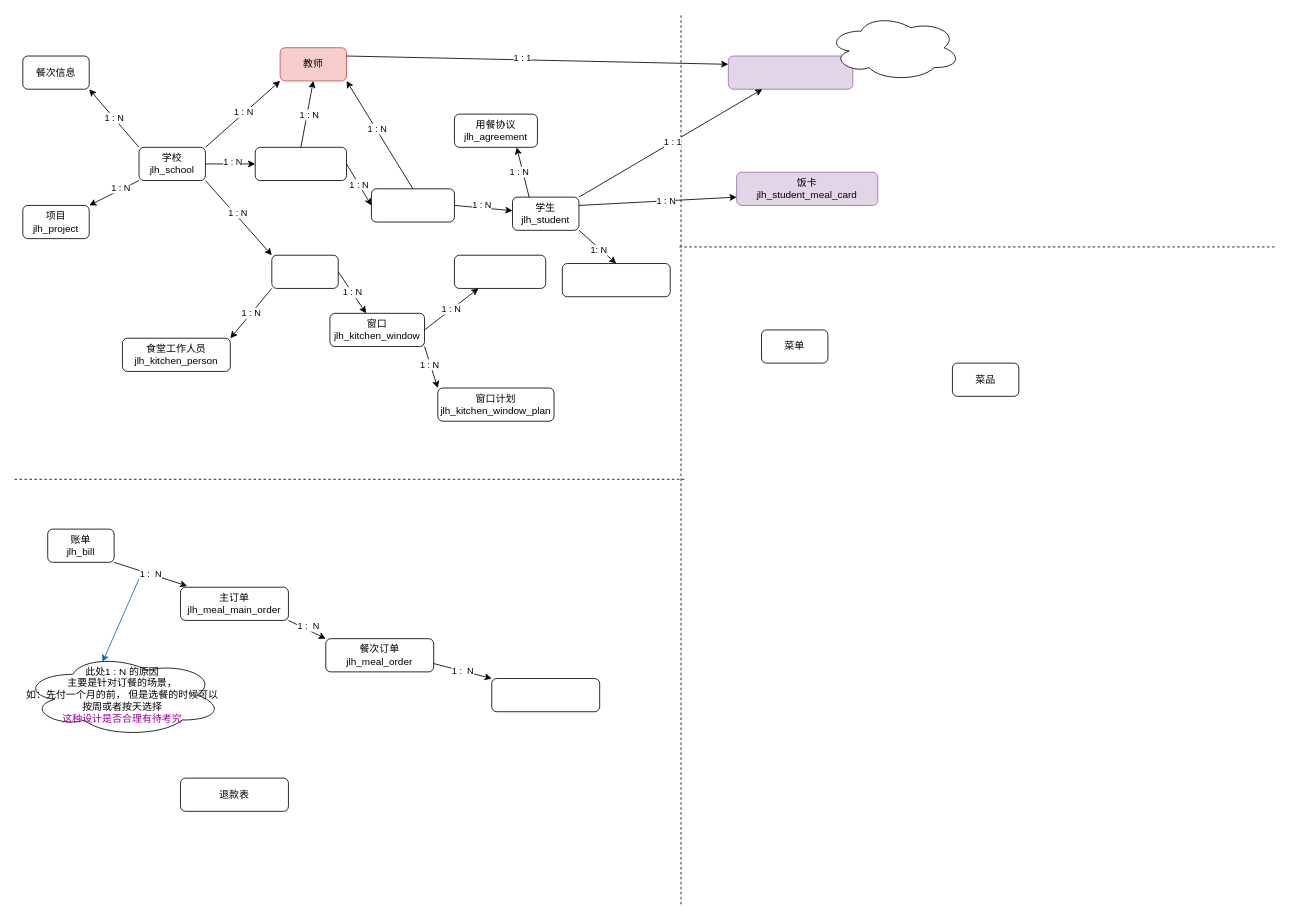
Some shapes in this 1292 by 920 pixel diagram are drawn without their labels. The shapes that lost their labels are listed below. From the top down, each one's centre as x and y in pixels, then its label:
(894,47): jlh_wallet 有表,但是没有使用
(790,72): 钱包 jlh_student_meal_card
(300,163): 年级 jlh_school_grade
(412,205): 班级 jlh_school_class
(304,271): 食堂 jlh_kitchen
(500,271): 设备 jlh_device_user
(615,280): 家长 jlh_student_patriarch
(545,695): 餐次订单明细 jlh_meal_order
